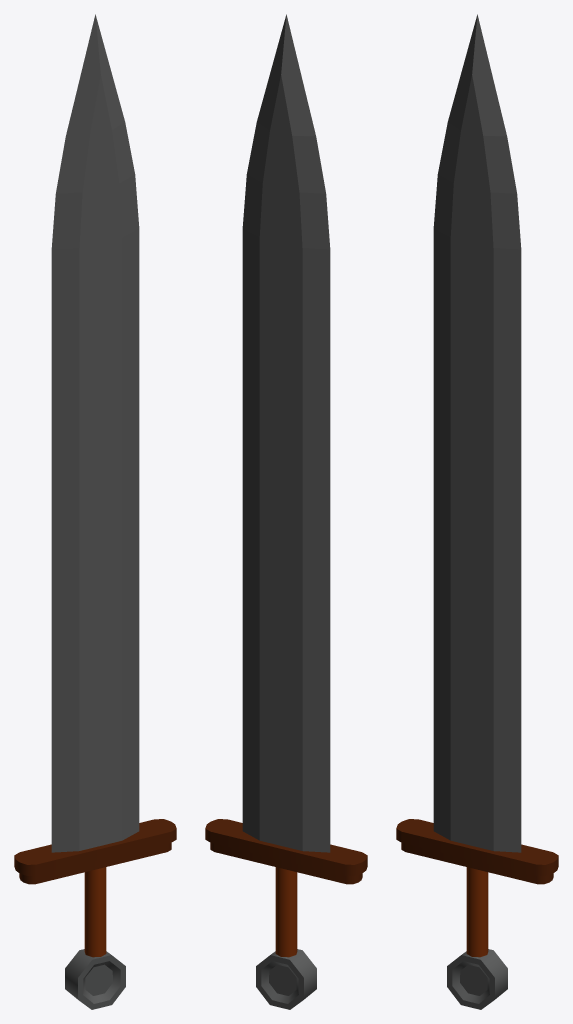
File: Sword.fbx
3 renders of one model, left to right at view 1: azimuth 30°, elevation 25°; view 2: azimuth 150°, elevation 25°; view 3: azimuth 330°, elevation 25°, orthographic.
Parts seen in each view (by area): view 1: Cube, Cube.001, Cylinder.001, Cylinder; view 2: Cube, Cube.001, Cylinder.001, Cylinder; view 3: Cube, Cube.001, Cylinder.001, Cylinder.
Boxes of the visible parts, box(x1,y1,x2,y2) form: Cube: box(51, 14, 139, 852); Cube.001: box(14, 819, 176, 884); Cylinder.001: box(65, 949, 125, 1009); Cylinder: box(84, 867, 106, 957); Cube: box(242, 14, 330, 852); Cube.001: box(205, 819, 367, 884); Cylinder.001: box(256, 949, 316, 1009); Cylinder: box(275, 867, 297, 957); Cube: box(433, 14, 521, 852); Cube.001: box(396, 819, 558, 884); Cylinder.001: box(447, 949, 507, 1009); Cylinder: box(466, 867, 488, 957).
Bounding box in the file's own units: 27.69 × 168 × 5.21.
1 material, 1 textured.
